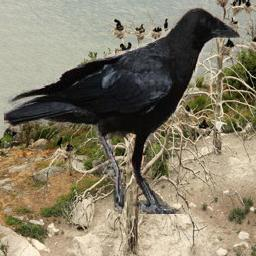Crow: (5, 2, 242, 214)
